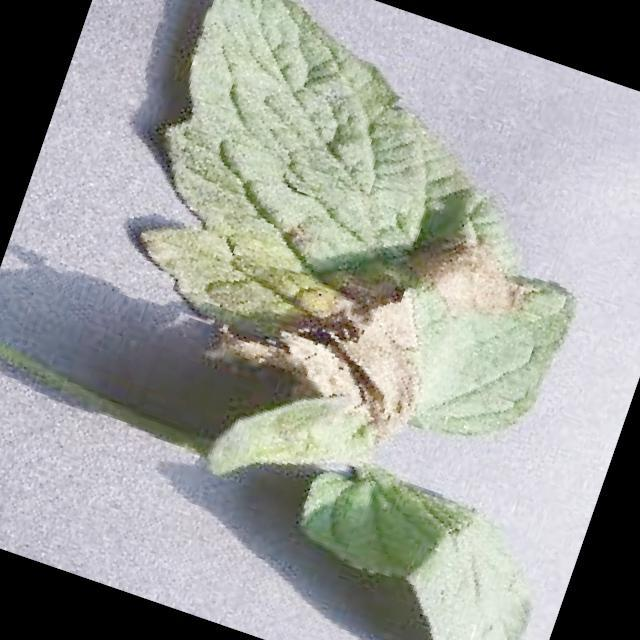Tomato late blight leaf: (92, 0, 640, 469)
